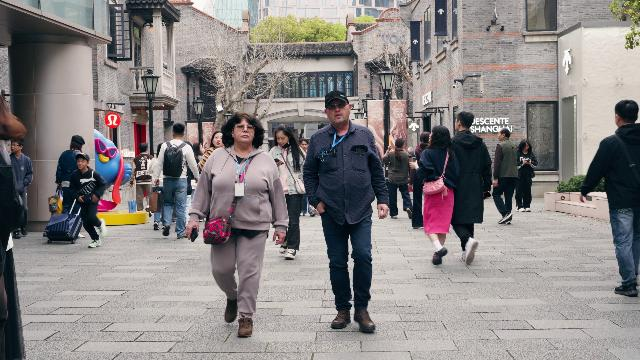person: (184, 111, 290, 338), (302, 90, 390, 333), (578, 99, 640, 296), (0, 90, 28, 358), (409, 124, 459, 266), (448, 111, 492, 264), (152, 123, 200, 239), (267, 124, 306, 260), (67, 152, 107, 248), (491, 128, 521, 225), (54, 135, 89, 216), (8, 137, 34, 239), (382, 138, 413, 219), (408, 131, 431, 230), (129, 142, 154, 217), (515, 138, 539, 213), (407, 147, 413, 158)
